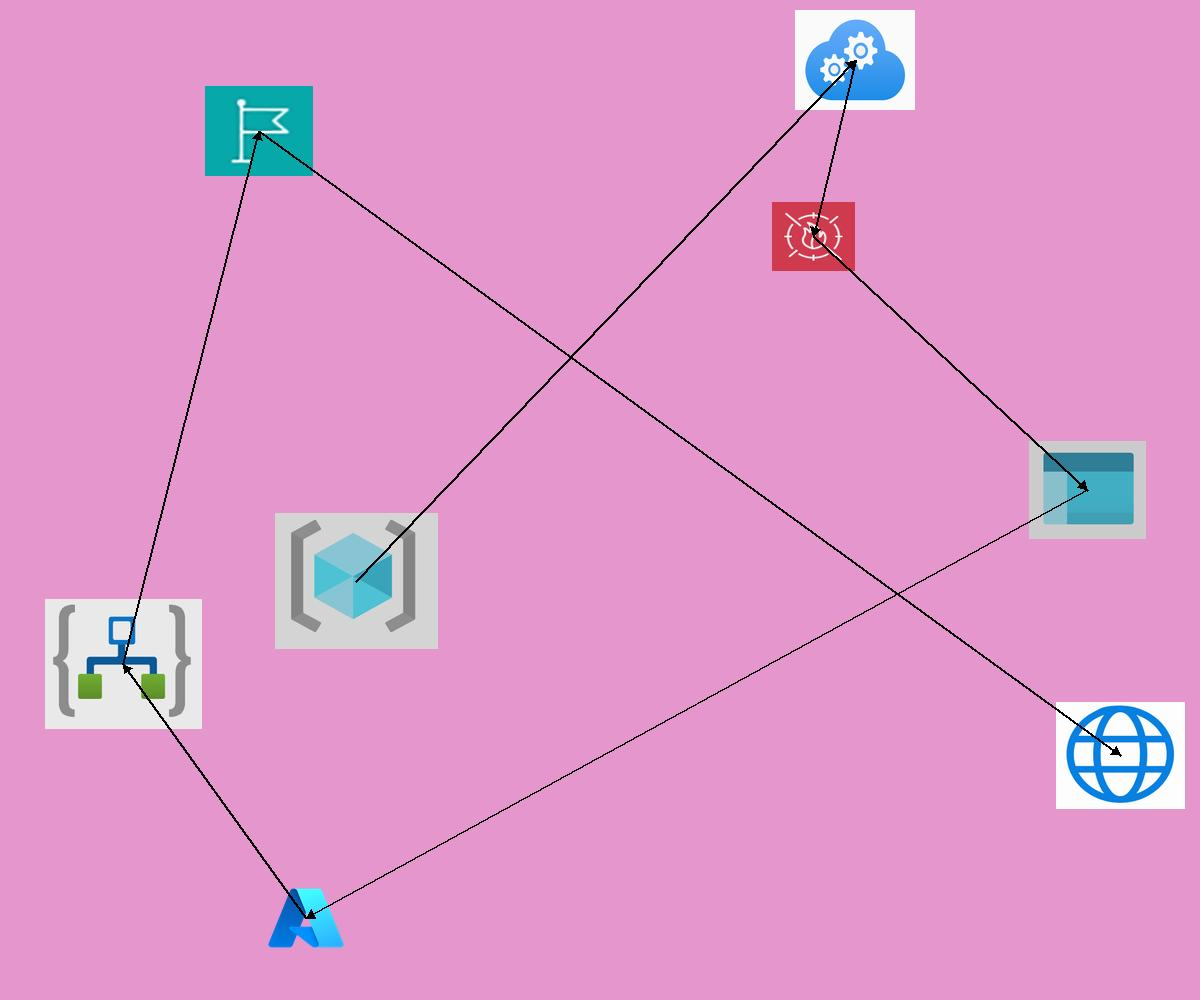AWS-Region: (205, 86, 313, 176)
AWS-WAF: (772, 202, 855, 271)
Azure_cloud_services: (795, 10, 915, 110)
Azure_http: (1056, 702, 1185, 809)
Azure_integration-204-Logic-Apps: (45, 599, 202, 729)
Azure_management-portal: (1029, 441, 1146, 539)
Azure_resource_group: (275, 513, 438, 649)
Azure_services: (265, 884, 347, 952)
